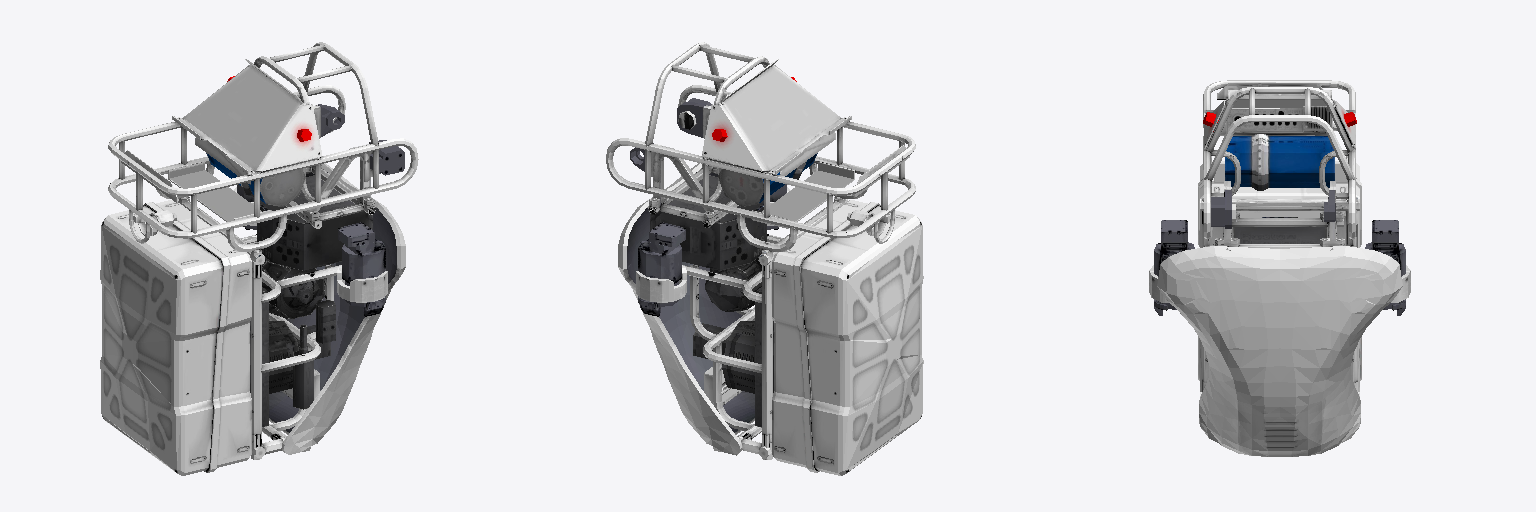
3 views of the same model, side by side, from view 1: azimuth 30°, elevation 25°; view 2: azimuth 150°, elevation 25°; view 3: azimuth 270°, elevation 25° (orthographic).
Visible parts, largest first — view 1: <dummy_root>; view 2: <dummy_root>; view 3: <dummy_root>.
Part boxes in pixels (x1,y1,x2,y2): <dummy_root>: (100,42,418,475); <dummy_root>: (606,42,923,475); <dummy_root>: (1149,80,1410,456).
Bounding box in the file's own units: 0.6238 × 0.8599 × 0.5601.
1 materials, 1 textured.